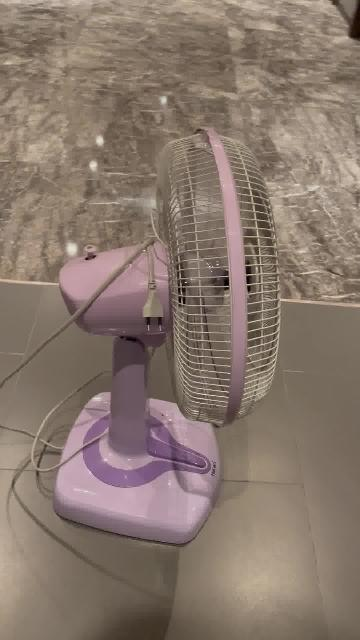Fan: (53, 129, 281, 548)
